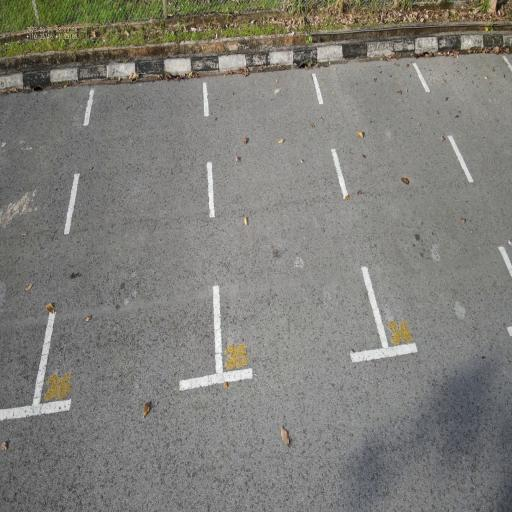Empty: (28, 64, 226, 422), (199, 61, 392, 390)
